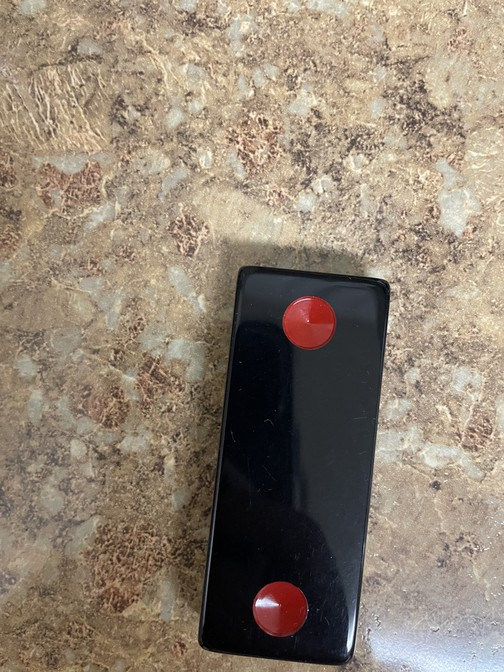earth: (197, 266, 392, 666)
